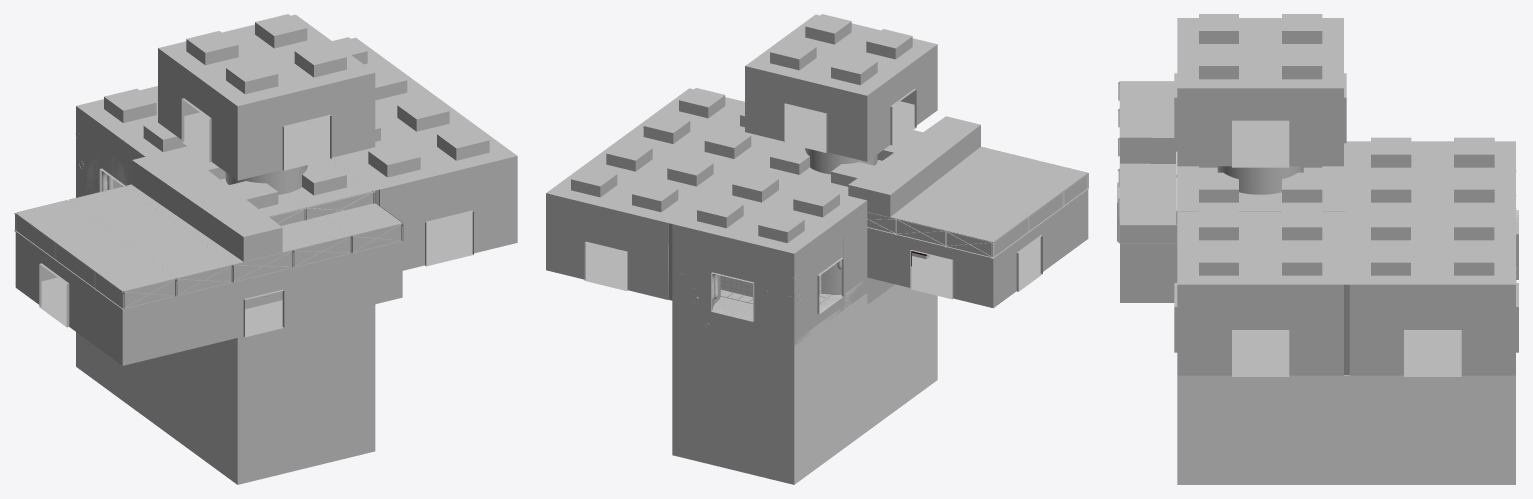
Rendered from pool_rooms.fbx.
The picture shows the model from 3 angles, left to right: view 1: azimuth 30°, elevation 25°; view 2: azimuth 150°, elevation 25°; view 3: azimuth 270°, elevation 25°; orthographic projection. The views are drawn at different scales.
Visible parts, largest first — view 1: entranceroom, PitFallRoom, spiralroom, PoolRoom, LargeBridgeRoom, ShallowPool, Cylinder2, EntranceTrussWork, DeepPool, PoolRoomPool, Cylinder3; view 2: PitFallRoom, PoolRoom, entranceroom, LargeBridgeRoom, spiralroom, ShallowPool, LargeWavePathRoom, Cylinder2, LargeLockerRoom, PoolRoomPool, EntranceTrussWork, Cylinder3; view 3: PoolRoom, PitFallRoom, spiralroom, entranceroom, LargeBridgeRoom, ShallowPool, PoolRoomPool, Cylinder2, Cylinder3, EntranceTrussWork.
Part boxes in pixels (bbox=[...]): entranceroom: bbox=[15, 148, 402, 365]; PitFallRoom: bbox=[76, 155, 375, 484]; spiralroom: bbox=[158, 14, 375, 307]; PoolRoom: bbox=[78, 37, 517, 270]; LargeBridgeRoom: bbox=[76, 86, 188, 197]; ShallowPool: bbox=[190, 154, 374, 216]; Cylinder2: bbox=[184, 112, 329, 169]; EntranceTrussWork: bbox=[14, 184, 403, 309]; DeepPool: bbox=[237, 191, 375, 341]; PoolRoomPool: bbox=[426, 211, 472, 266]; Cylinder3: bbox=[225, 165, 307, 194]; PitFallRoom: bbox=[672, 238, 937, 484]; PoolRoom: bbox=[546, 88, 866, 320]; entranceroom: bbox=[848, 116, 1088, 308]; LargeBridgeRoom: bbox=[672, 170, 867, 345]; spiralroom: bbox=[745, 14, 937, 161]; ShallowPool: bbox=[745, 138, 912, 292]; LargeWavePathRoom: bbox=[672, 202, 874, 345]; Cylinder2: bbox=[785, 101, 914, 151]; LargeLockerRoom: bbox=[584, 241, 668, 290]; PoolRoomPool: bbox=[585, 243, 840, 320]; EntranceTrussWork: bbox=[866, 147, 1088, 258]; Cylinder3: bbox=[805, 148, 877, 174]; PoolRoom: bbox=[1174, 137, 1518, 376]; PitFallRoom: bbox=[1177, 210, 1518, 484]; spiralroom: bbox=[1174, 14, 1346, 167]; entranceroom: bbox=[1117, 81, 1177, 302]; LargeBridgeRoom: bbox=[1344, 137, 1518, 279]; ShallowPool: bbox=[1177, 166, 1343, 211]; PoolRoomPool: bbox=[1232, 331, 1461, 375]; Cylinder2: bbox=[1232, 122, 1289, 166]; Cylinder3: bbox=[1217, 166, 1303, 194]; EntranceTrussWork: bbox=[1117, 81, 1177, 243].
Size of the model in its own units: 36 by 28 by 31.5.
